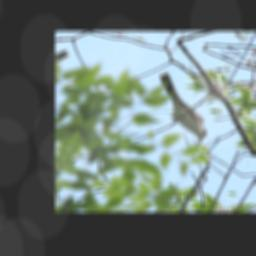Cuckoo: (133, 71, 234, 144)
